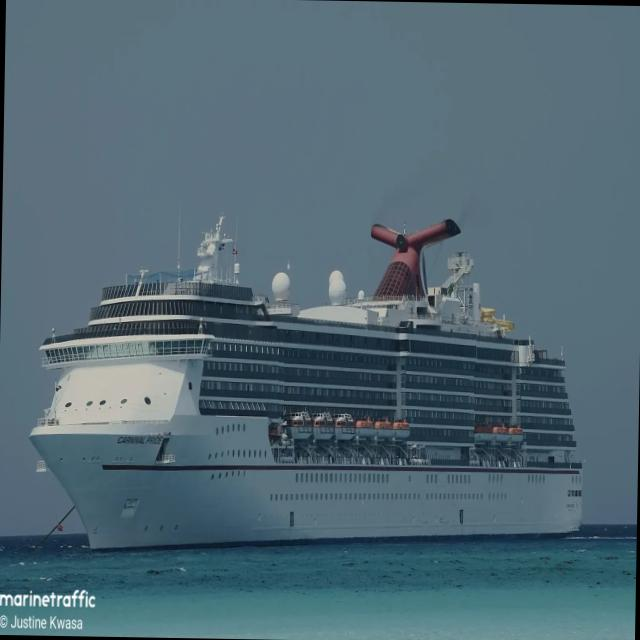Cruise: (28, 217, 585, 553)
